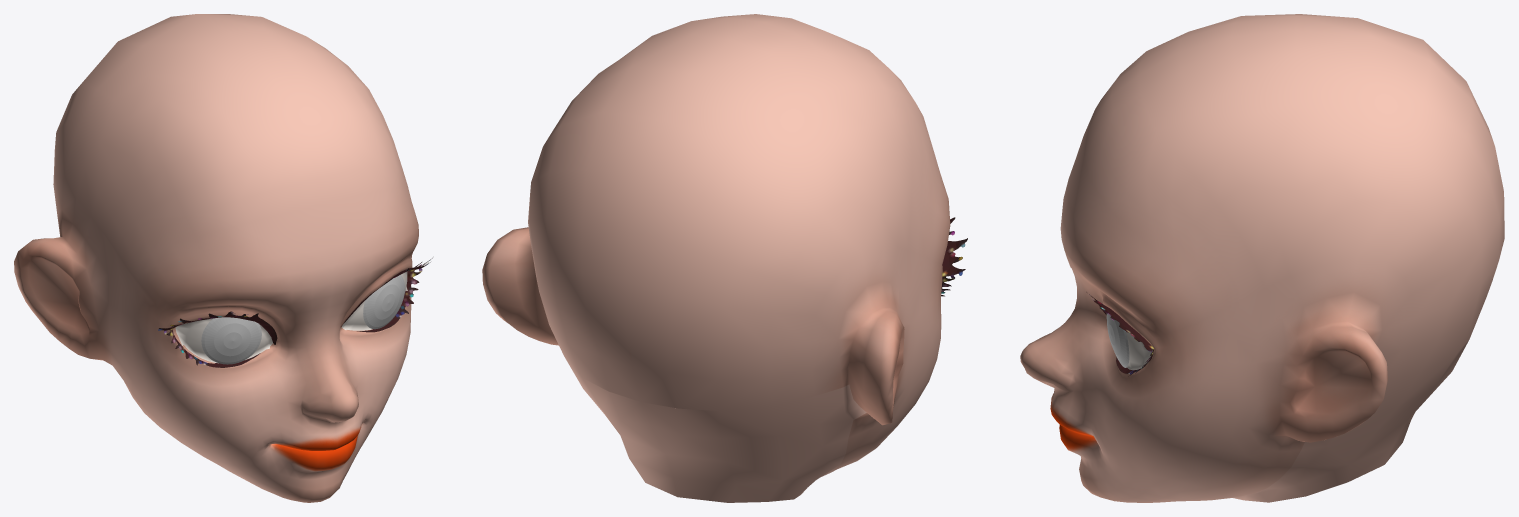
The model's file is head.FBX.
The picture shows the model from 3 angles, left to right: view 1: azimuth 30°, elevation 25°; view 2: azimuth 150°, elevation 25°; view 3: azimuth 270°, elevation 25°; orthographic projection. The views are drawn at different scales.
Parts seen in each view (by area): view 1: head002, jiemao002; view 2: head002, jiemao002; view 3: head002, jiemao002.
Boxes of the visible parts, x1=… form: head002: x1=14, y1=14, x2=418, y2=502; jiemao002: x1=158, y1=258, x2=432, y2=367; head002: x1=482, y1=14, x2=950, y2=502; jiemao002: x1=941, y1=217, x2=967, y2=296; head002: x1=1020, y1=14, x2=1504, y2=502; jiemao002: x1=1086, y1=292, x2=1154, y2=376.
Size of the model in its own units: 18.86 by 20.8 by 19.65.
